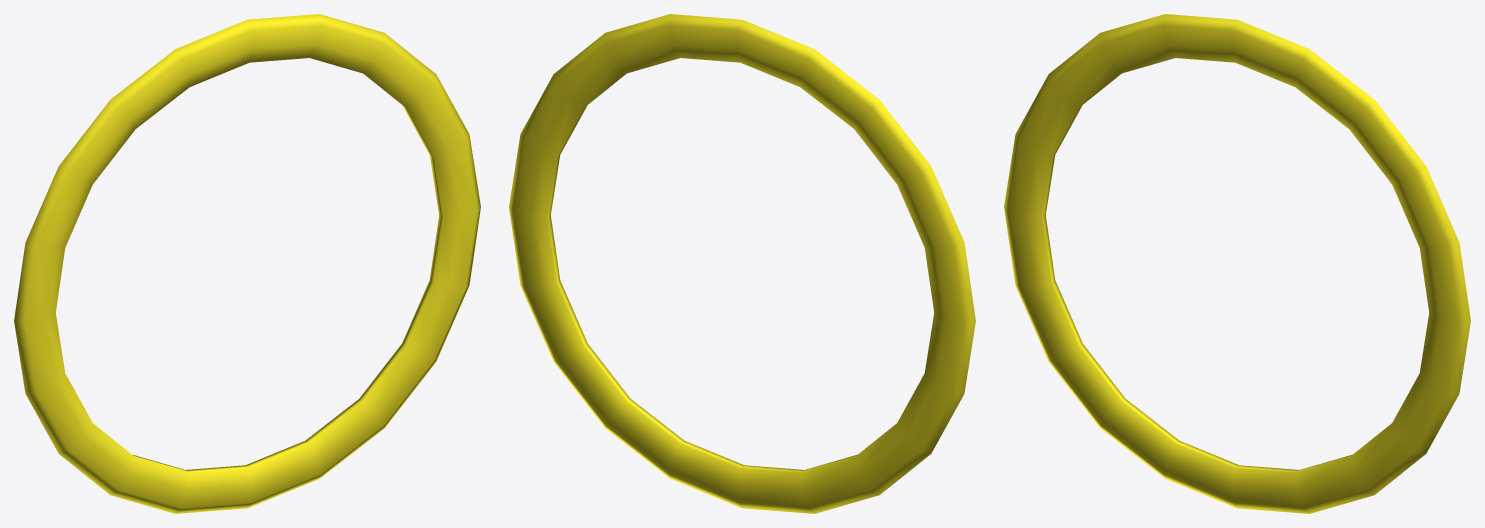
Rendered from ring.fbx.
3 renders of one model, left to right at view 1: azimuth 30°, elevation 25°; view 2: azimuth 150°, elevation 25°; view 3: azimuth 330°, elevation 25°, orthographic.
Visible parts, largest first — view 1: Torus; view 2: Torus; view 3: Torus.
Part boxes in pixels (x1,y1,x2,y2): Torus: (14, 14, 480, 513); Torus: (509, 14, 975, 513); Torus: (1004, 14, 1470, 513).
Bounding box in the file's own units: 358 × 358 × 12.62.
